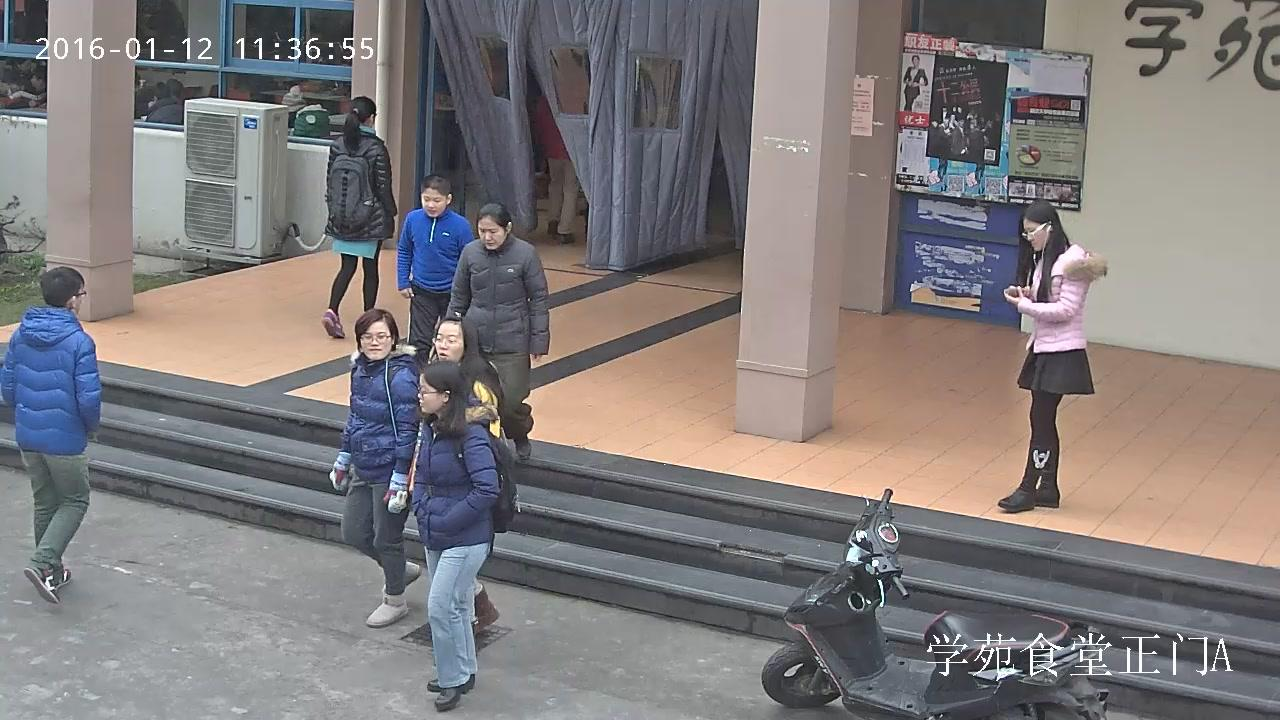person: (411, 360, 515, 709), (996, 201, 1108, 510), (0, 267, 103, 603), (329, 309, 422, 627), (443, 202, 550, 462), (321, 95, 396, 340), (395, 174, 477, 367), (426, 317, 510, 438), (533, 88, 581, 244), (279, 84, 332, 144), (146, 78, 183, 124), (902, 54, 929, 110)
